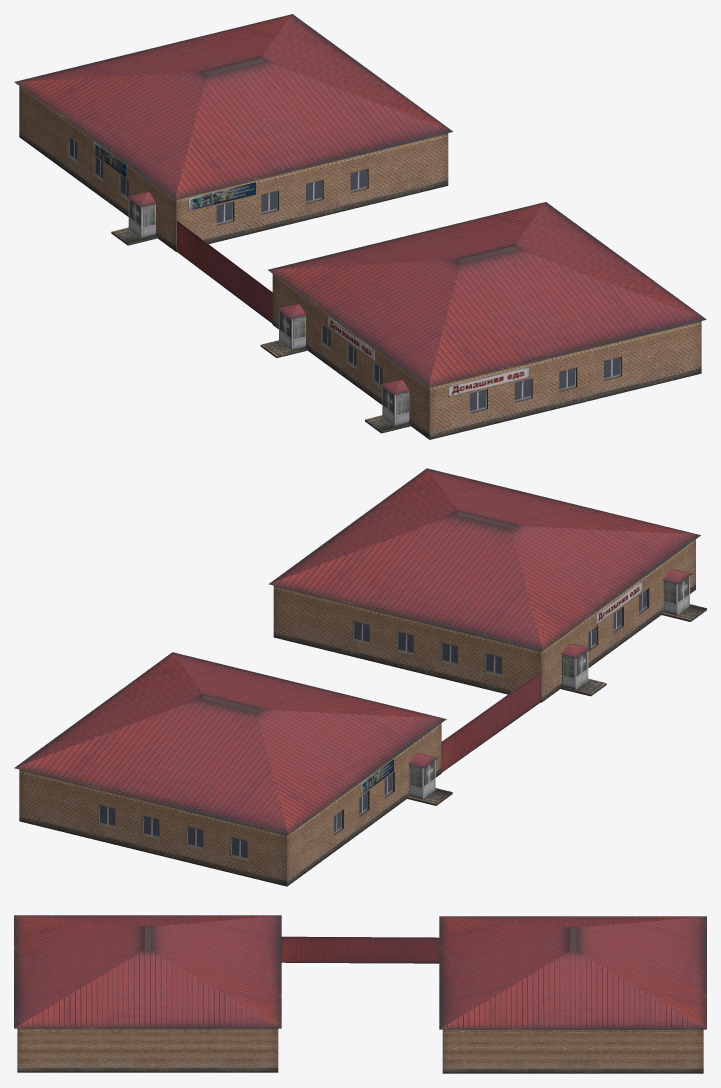
The model's file is e30_domasn_eda.FBX.
3 views of the same model, one above another, from view 1: azimuth 30°, elevation 25°; view 2: azimuth 150°, elevation 25°; view 3: azimuth 270°, elevation 25° (orthographic). The views are drawn at different scales.
Parts seen in each view (by area): view 1: e30_domasn_eda; view 2: e30_domasn_eda; view 3: e30_domasn_eda.
Part boxes in pixels (box(x1,y1,x2,y2)): e30_domasn_eda: box(14, 14, 706, 439); e30_domasn_eda: box(14, 468, 706, 886); e30_domasn_eda: box(14, 915, 706, 1073).
Size of the model in its own units: 20.72 by 48.44 by 6.1.
